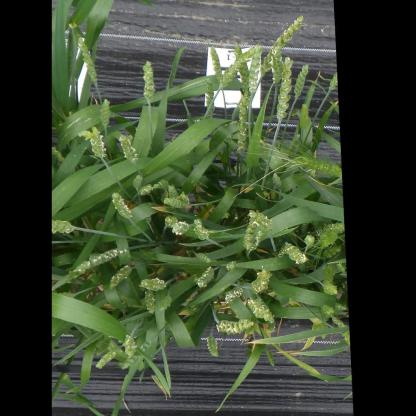whd: (258, 13, 305, 76), (70, 245, 128, 275), (287, 154, 342, 178), (275, 55, 294, 120), (76, 36, 98, 85), (230, 42, 250, 95), (236, 88, 251, 156), (76, 126, 107, 158), (246, 41, 264, 94), (245, 208, 274, 237), (248, 265, 273, 295), (217, 60, 242, 90), (214, 317, 255, 335), (268, 38, 284, 84), (110, 191, 133, 220), (241, 216, 260, 251), (108, 264, 133, 290), (141, 59, 156, 102), (283, 242, 310, 265), (209, 44, 224, 85), (118, 134, 138, 164), (254, 297, 275, 325), (293, 63, 309, 99), (192, 265, 215, 289), (314, 220, 345, 236), (94, 349, 117, 370), (119, 350, 143, 370), (283, 133, 301, 159), (138, 276, 167, 292), (223, 284, 245, 305), (317, 229, 339, 250), (192, 217, 210, 241), (97, 98, 111, 128), (123, 332, 138, 360), (246, 298, 265, 320), (51, 218, 75, 235), (95, 334, 112, 357), (249, 228, 266, 251), (203, 76, 214, 110), (144, 288, 158, 314), (298, 103, 310, 130), (205, 335, 219, 358), (163, 196, 187, 209), (171, 220, 190, 236), (322, 244, 342, 259), (321, 264, 335, 285), (258, 140, 272, 160), (63, 270, 86, 282), (157, 295, 173, 312), (72, 28, 81, 58), (320, 282, 339, 296), (263, 344, 275, 366), (52, 146, 66, 164), (330, 314, 348, 328), (271, 171, 283, 191), (151, 178, 170, 190), (319, 304, 338, 316), (163, 214, 179, 228), (137, 182, 153, 196), (166, 183, 179, 200), (138, 339, 152, 354), (328, 70, 338, 91), (195, 252, 213, 263), (132, 173, 143, 190), (339, 329, 350, 346), (177, 190, 190, 204), (304, 233, 315, 248), (276, 242, 286, 258), (206, 100, 216, 116), (225, 260, 239, 271), (244, 343, 253, 359), (335, 262, 347, 274), (334, 302, 348, 312), (265, 321, 276, 332), (58, 291, 75, 298), (314, 322, 328, 330), (185, 306, 195, 316), (137, 360, 145, 372), (221, 210, 230, 219), (144, 214, 152, 224), (247, 334, 254, 342), (320, 334, 328, 340)
